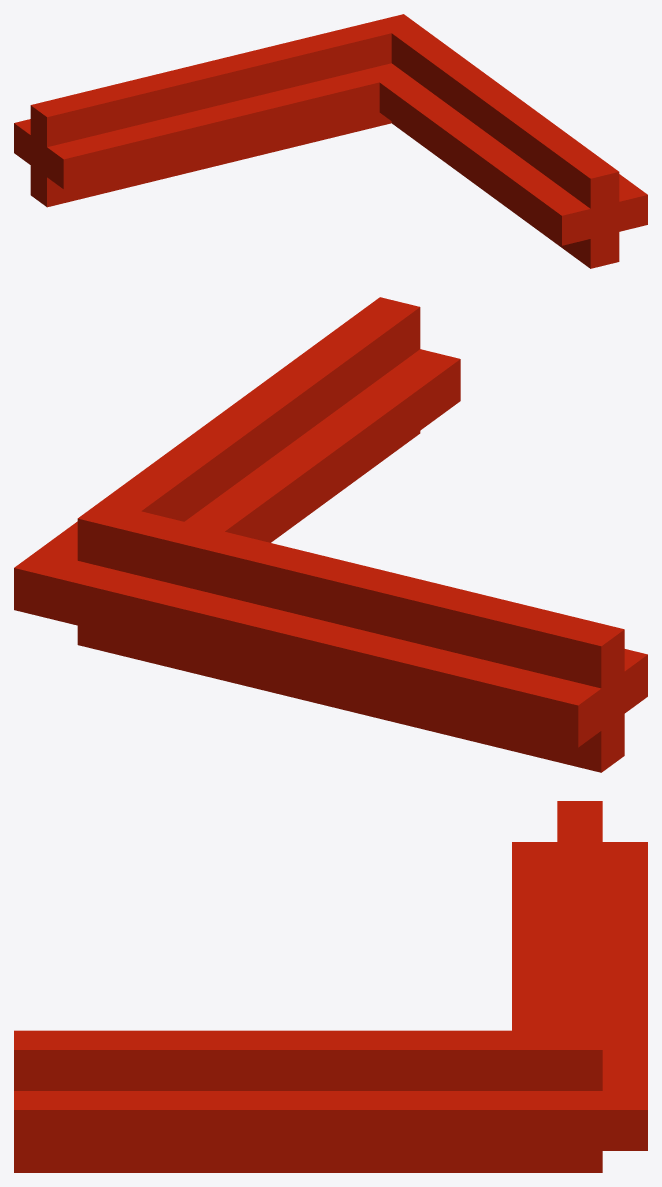
File: wire_turn.dae
The picture shows the model from 3 angles, top to bottom: view 1: azimuth 30°, elevation 25°; view 2: azimuth 150°, elevation 25°; view 3: azimuth 270°, elevation 25°; orthographic projection. The views are drawn at different scales.
Parts seen in each view (by area): view 1: wire_turn; view 2: wire_turn; view 3: wire_turn.
Boxes of the visible parts, box(x1,y1,x2,y2) form: wire_turn: box(14, 14, 647, 268); wire_turn: box(14, 297, 647, 772); wire_turn: box(14, 801, 647, 1172).
Size of the model in its own units: 14 by 14 by 3.
